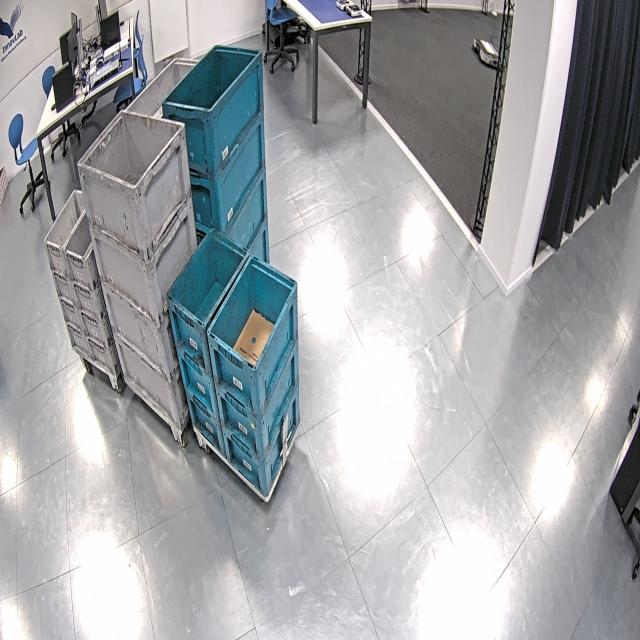Box4G: (77, 106, 192, 256), (89, 202, 200, 314), (110, 326, 199, 432), (97, 272, 187, 375)
Box8G: (44, 188, 86, 281), (64, 196, 103, 289), (78, 296, 116, 347), (71, 271, 108, 320), (85, 325, 122, 372), (64, 316, 94, 363), (49, 264, 76, 306), (58, 290, 84, 331)
BoxB4: (159, 43, 262, 176), (188, 111, 268, 234), (210, 167, 269, 253)
BoxB8: (210, 253, 298, 412), (165, 228, 251, 372), (223, 387, 300, 499), (207, 340, 300, 408), (183, 382, 223, 457), (175, 350, 220, 414)
